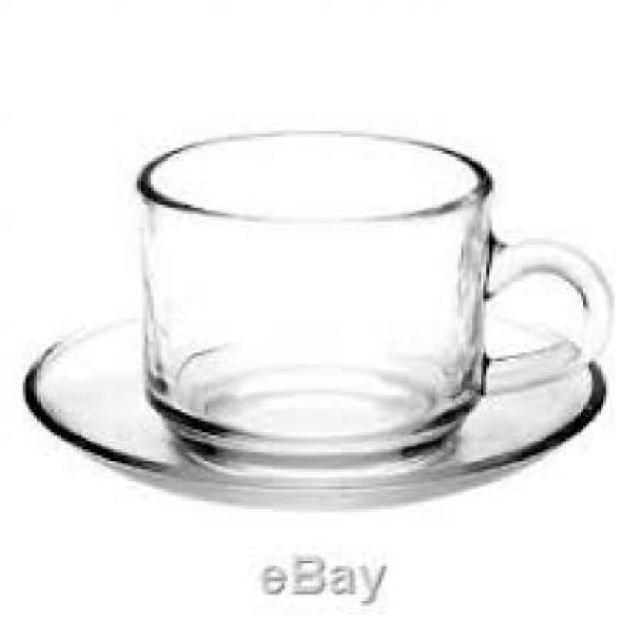kaca: (134, 124, 609, 456), (23, 302, 603, 498)
